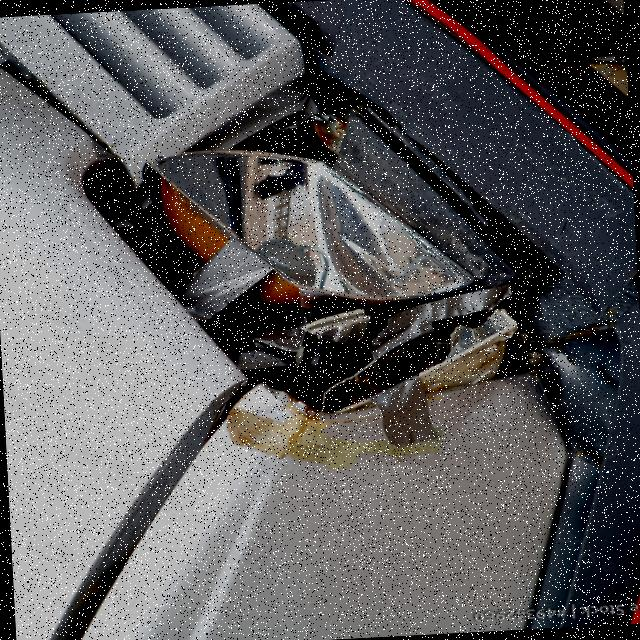Head Light: (131, 62, 521, 438)
